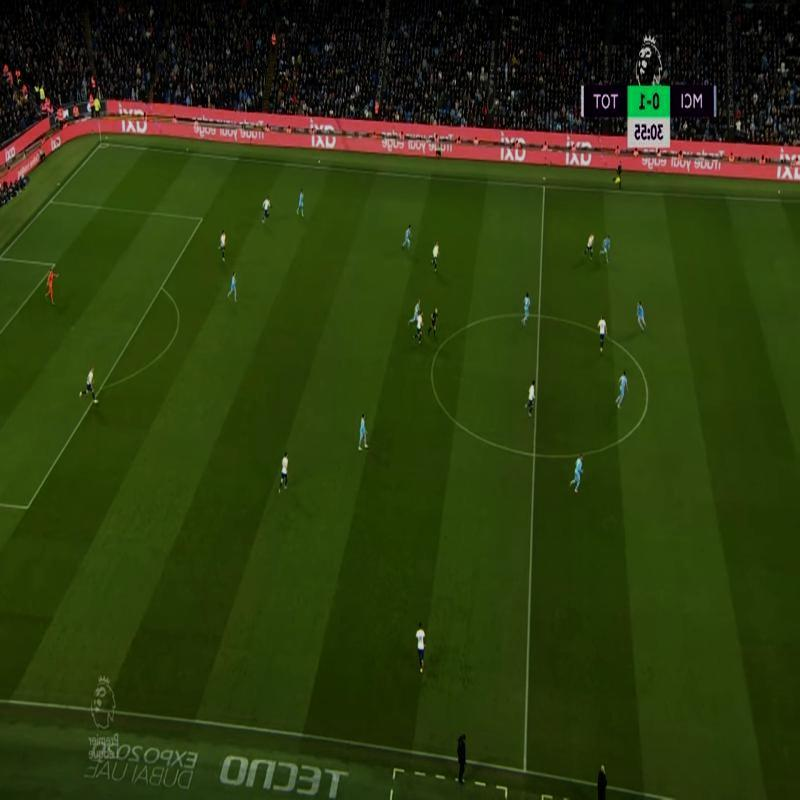1: (94, 136, 110, 152)
10: (154, 281, 169, 295)
11: (94, 382, 108, 397)
12: (20, 500, 35, 515)
13: (535, 178, 551, 192)
14: (532, 308, 546, 324)
15: (526, 446, 542, 462)
16: (516, 760, 534, 781)
2: (44, 192, 58, 210)
7: (48, 254, 62, 274)
9: (195, 212, 209, 226)
c: (426, 358, 439, 380), (640, 388, 655, 404)
